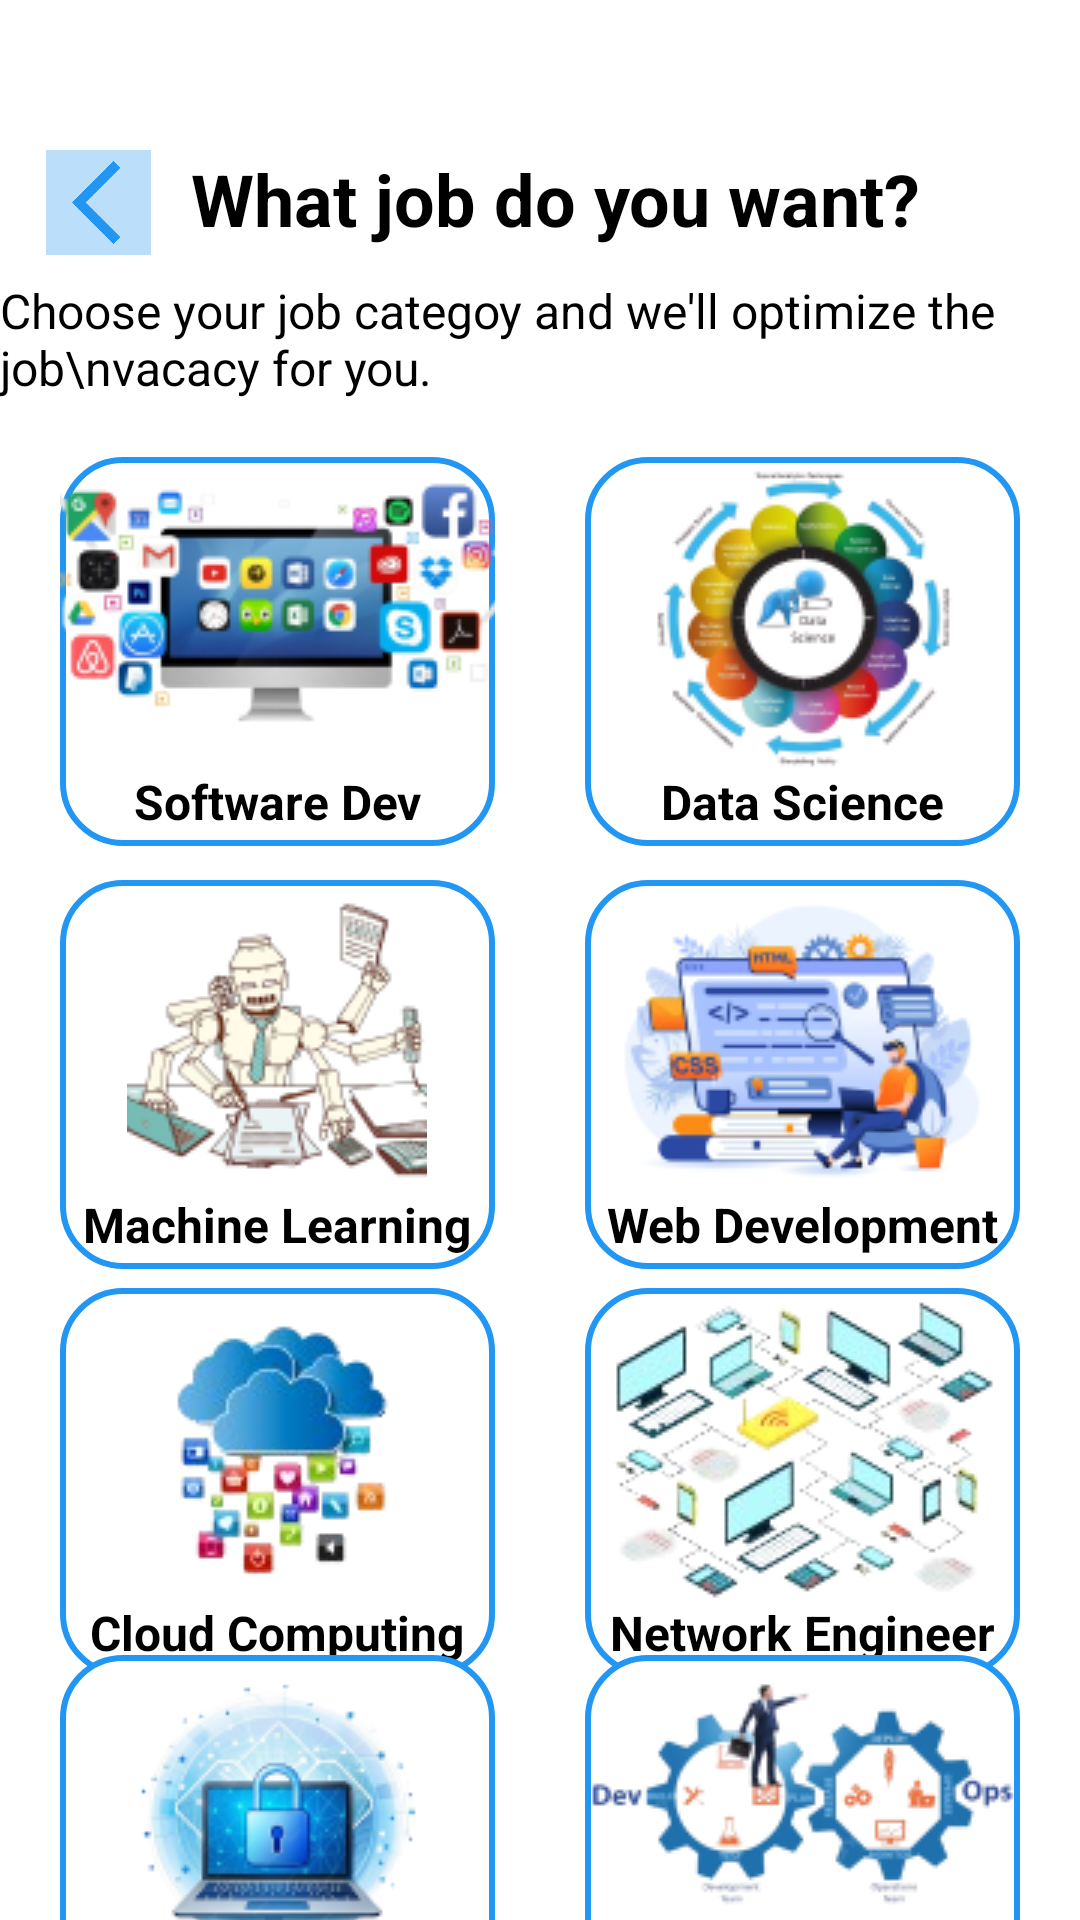

Where to tap for icons on this 1080px×1920px app screen, as [x,y]:
comeback: [98,202]
